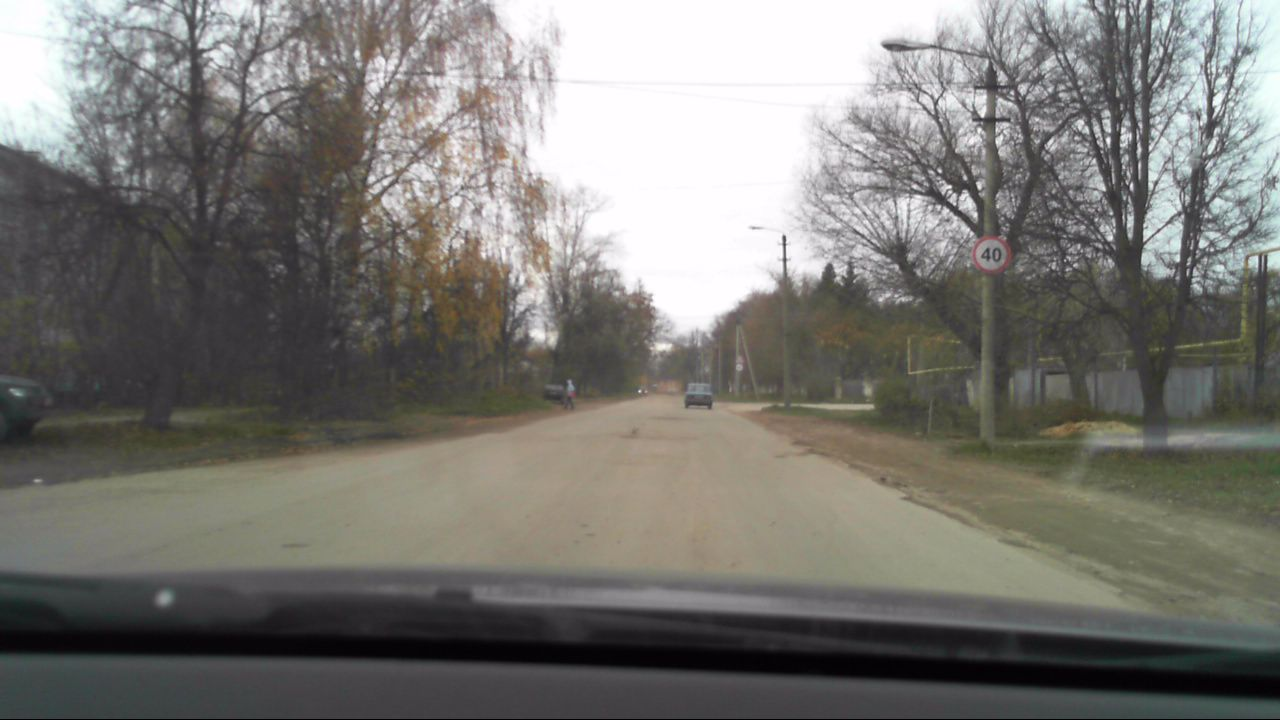speed_warning_40: (971, 235, 1011, 273)
